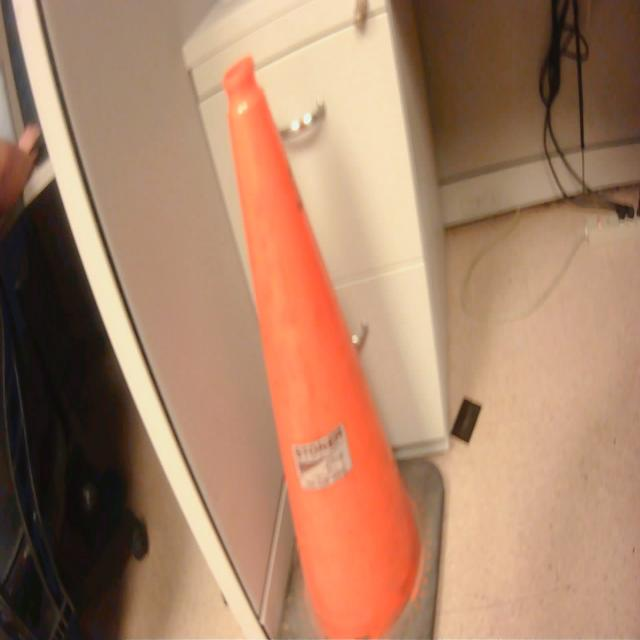traffic cone: (221, 50, 453, 640)
